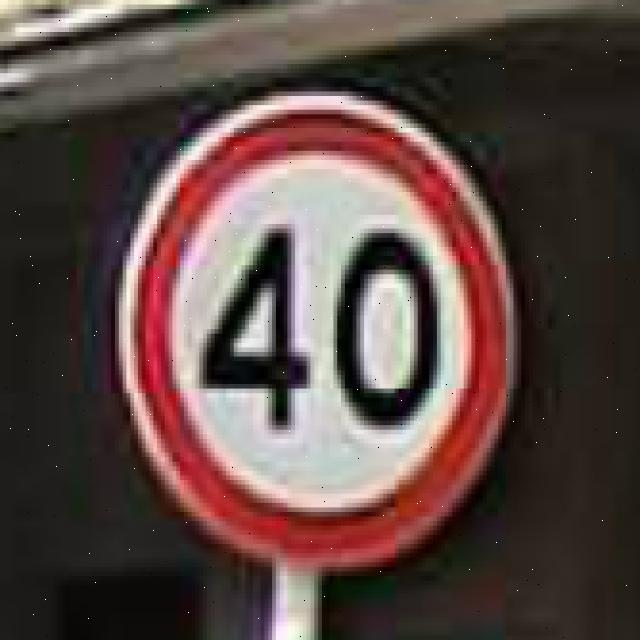speed limit 40: (116, 88, 514, 572)
